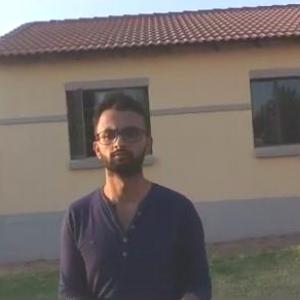follow: (55, 85, 217, 299)
